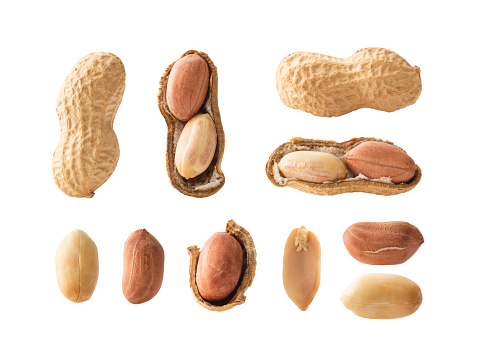kacang2: (44, 44, 128, 208), (267, 42, 438, 120)
